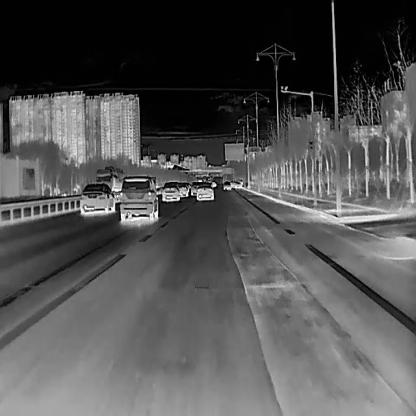car: (119, 176, 158, 220), (78, 183, 115, 214), (161, 181, 180, 201), (196, 182, 213, 201), (178, 182, 189, 196), (222, 180, 231, 190)
truck: (95, 166, 123, 191)
